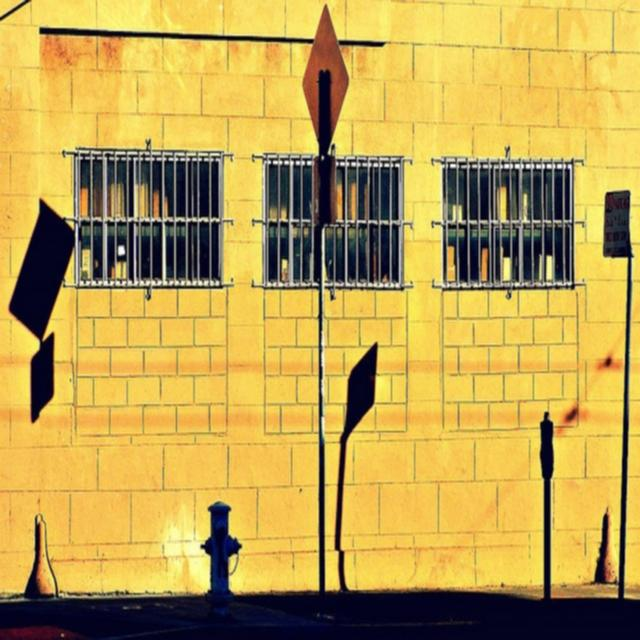fire_hydrant: (201, 499, 240, 598)
pole: (308, 66, 332, 601), (615, 256, 632, 601)
